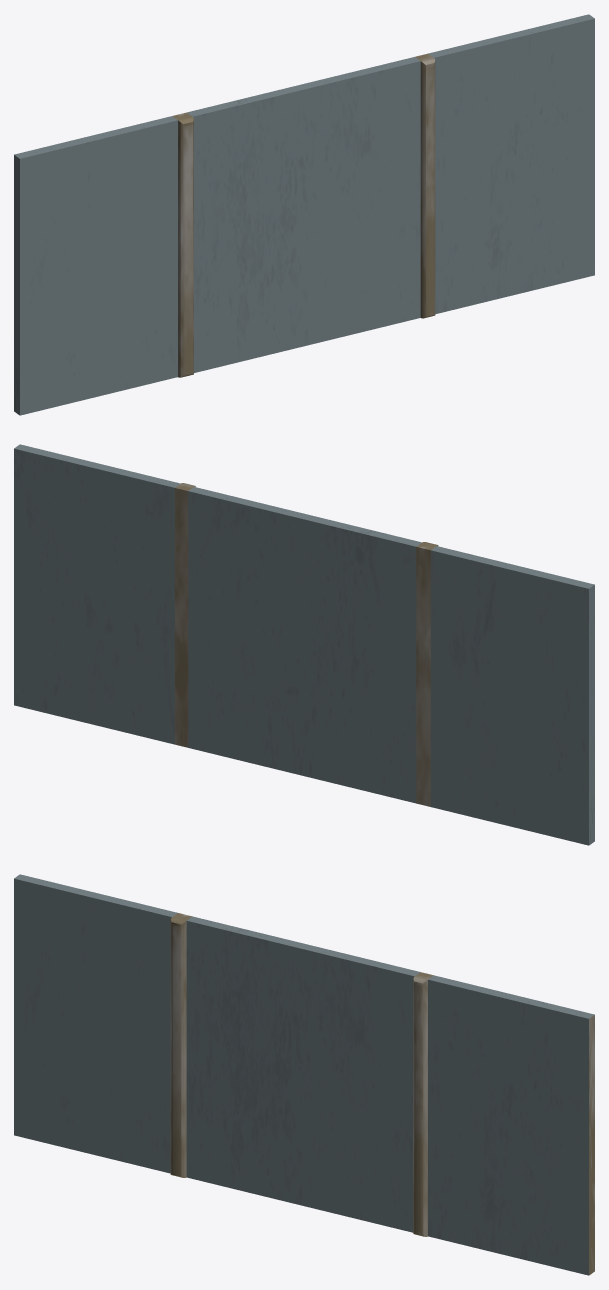
File: Window_finished.fbx
The picture shows the model from 3 angles, top to bottom: view 1: azimuth 30°, elevation 25°; view 2: azimuth 150°, elevation 25°; view 3: azimuth 330°, elevation 25°; orthographic projection.
Visible parts, largest first — view 1: pCube1; view 2: pCube1; view 3: pCube1.
Part boxes in pixels (x1,y1,x2,y2): pCube1: (14,14,594,415); pCube1: (14,444,594,845); pCube1: (14,874,594,1275).
Size of the model in its own units: 7.01 by 2.99 by 0.1937.
Materials: 2 (2 with a texture image).
